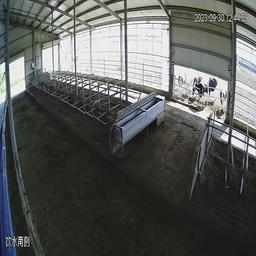cow: (191, 76, 211, 111), (174, 68, 188, 100), (218, 84, 227, 118)
